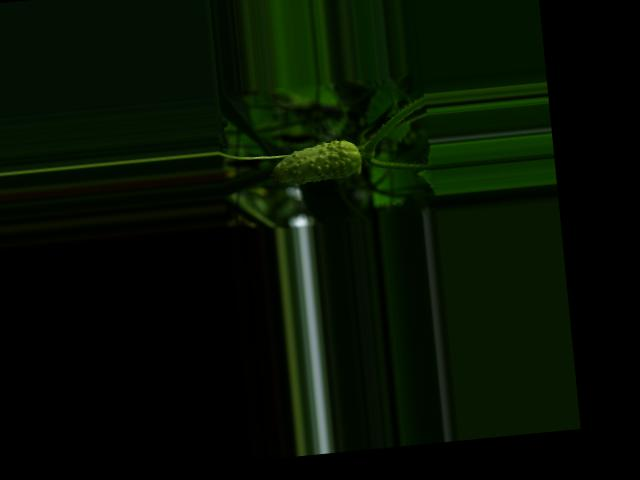cucumber: (267, 137, 363, 185)
